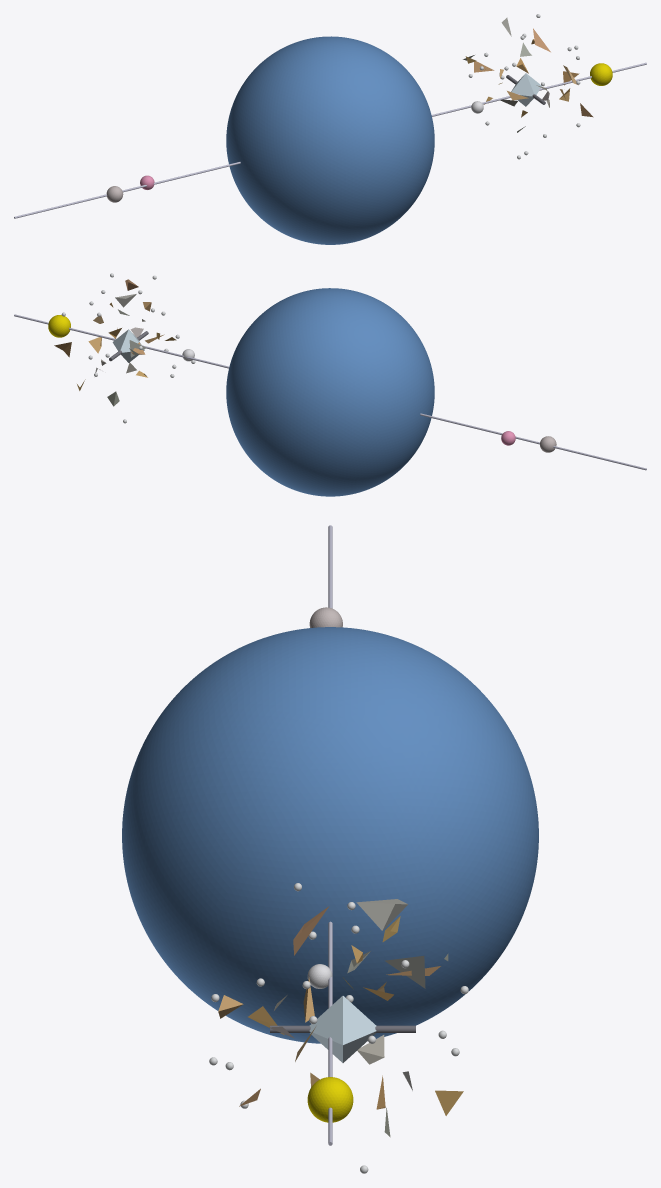
The model's file is blue_pearl_with_chiron_singularity_cluster.glb.
3 renders of one model, top to bottom at view 1: azimuth 30°, elevation 25°; view 2: azimuth 150°, elevation 25°; view 3: azimuth 270°, elevation 25°, orthographic. The views are drawn at different scales.
Visible parts, largest first — view 1: BluePearl, Ecliptic, Chiron_geometry_0, Sun; view 2: BluePearl, Ecliptic, Chiron_geometry_0, Sun; view 3: BluePearl, Chiron_geometry_0, Sun, Ecliptic.
Part boxes in pixels (left/top/right/bottom): BluePearl: left=226, top=36, right=434, bottom=244; Ecliptic: left=14, top=62, right=646, bottom=218; Chiron_geometry_0: left=511, top=73, right=541, bottom=106; Sun: left=590, top=63, right=612, bottom=85; BluePearl: left=226, top=288, right=434, bottom=496; Ecliptic: left=14, top=314, right=646, bottom=470; Chiron_geometry_0: left=112, top=329, right=144, bottom=362; Sun: left=48, top=315, right=70, bottom=337; BluePearl: left=122, top=627, right=538, bottom=1043; Chiron_geometry_0: left=309, top=996, right=376, bottom=1062; Sun: left=307, top=1077, right=353, bottom=1122; Ecliptic: left=328, top=525, right=332, bottom=1145.
Bounding box in the file's own units: 7 × 2 × 2.
